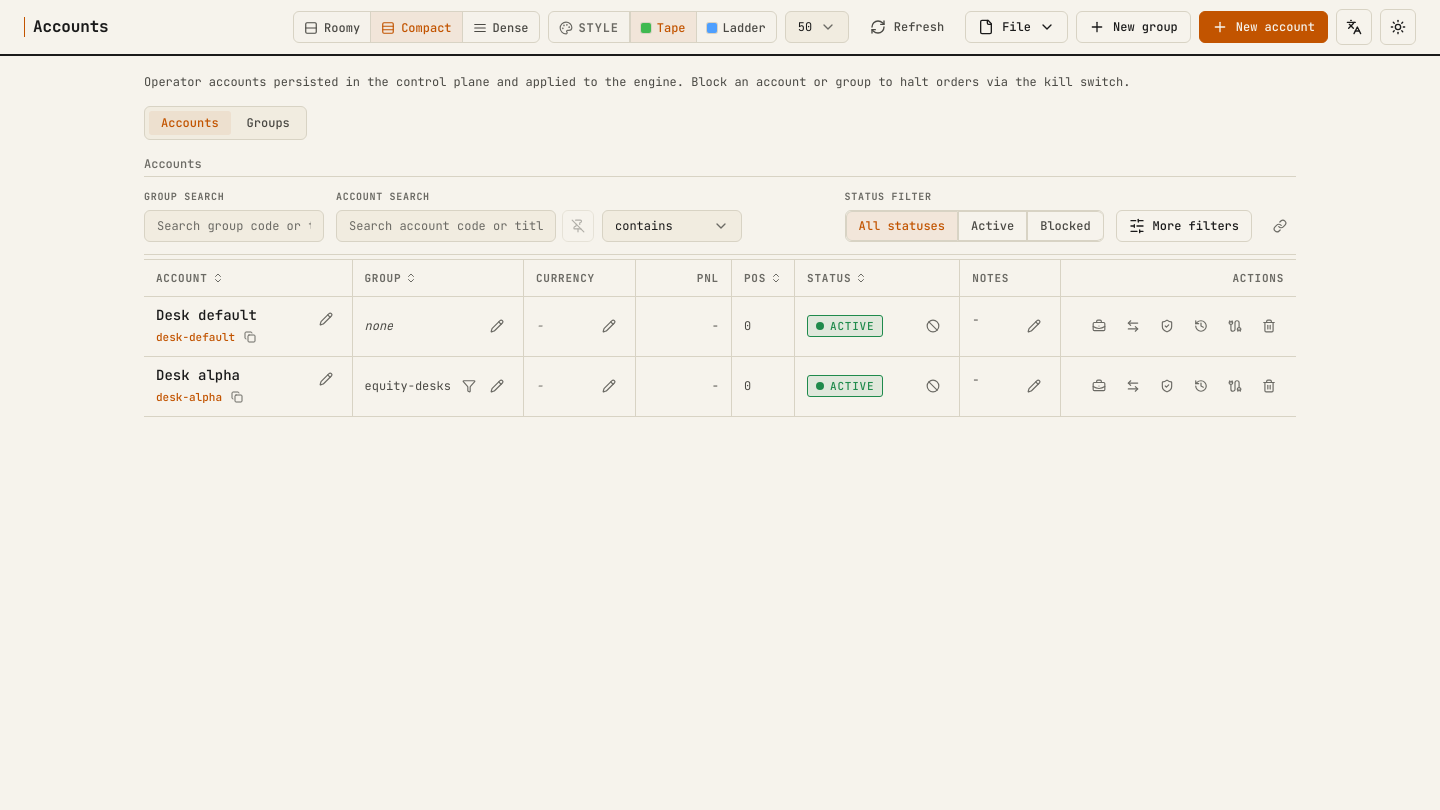
DeleteAccountConfirm › labels trading access dependents after a refused delete
Click the button named "Delete desk-alpha" at (1269, 386), box [1254,371,1284,401]
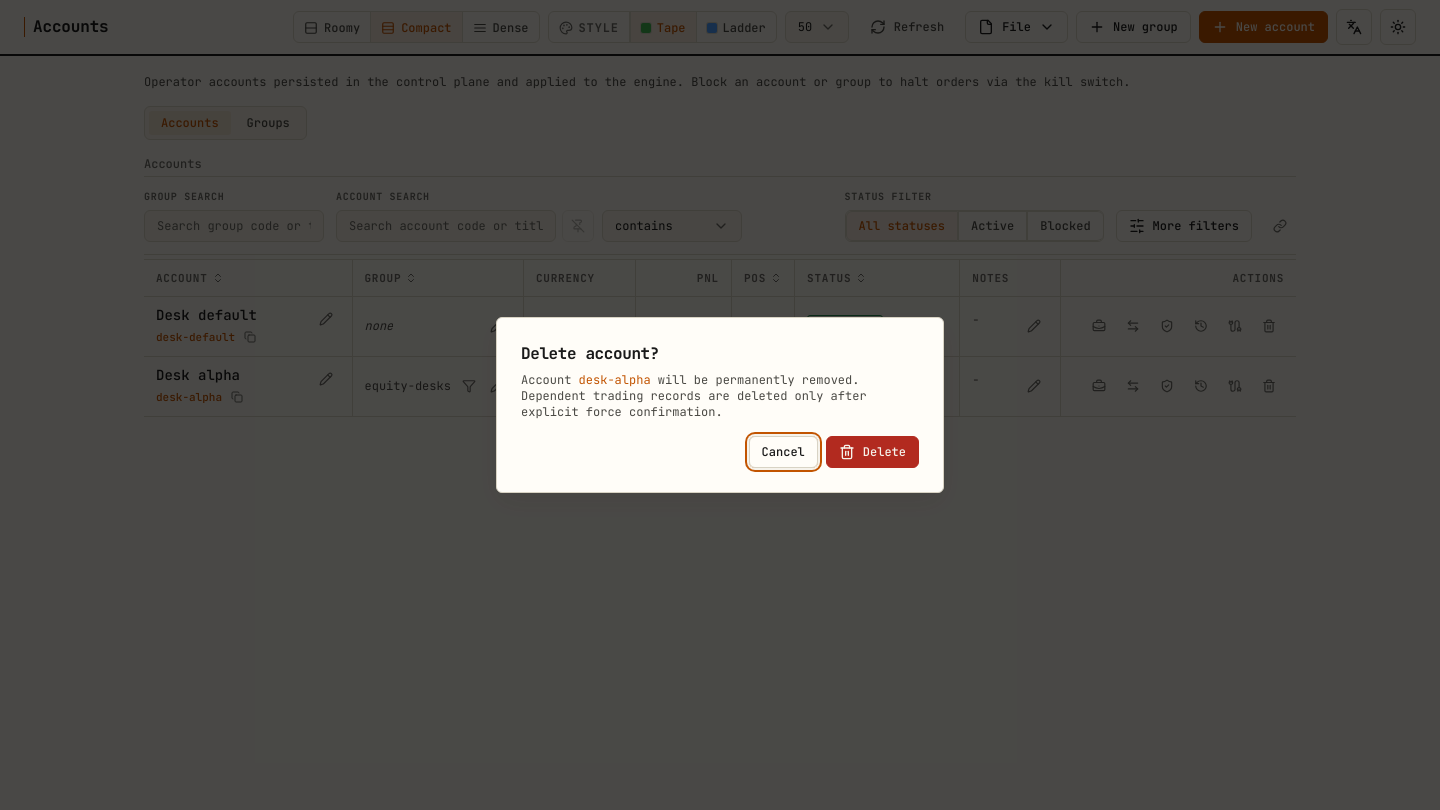
Click the button "Delete" at (872, 452), box [826,436,919,468]
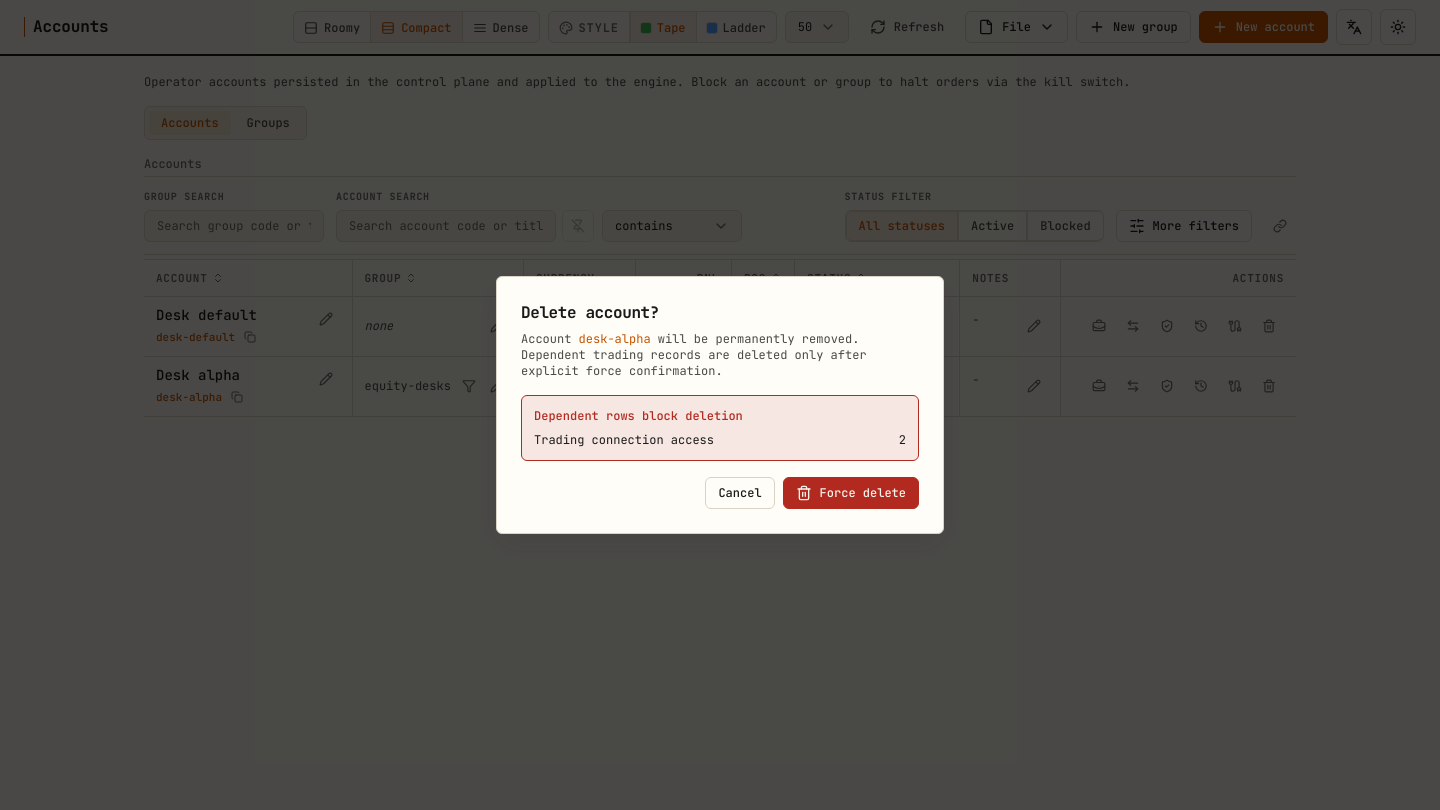
Check: the button "Force delete" is enabled, box [783,477,919,509]
Check: the list item "Trading connection access" shows "2", box [899,432,906,448]
